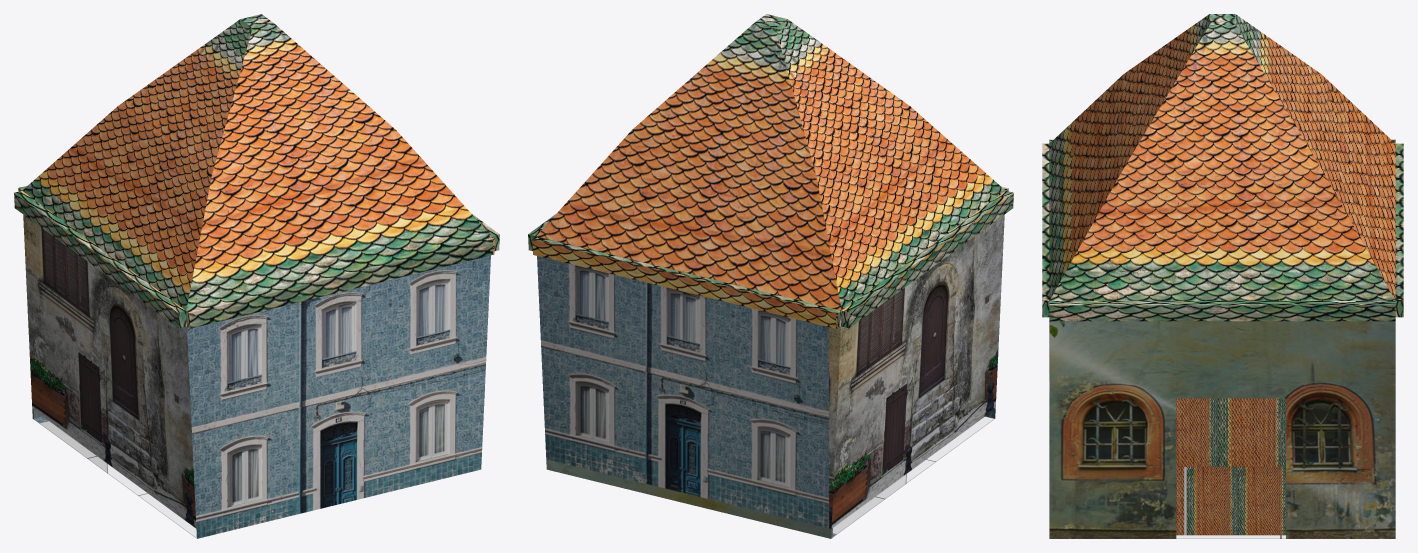
Rendered from finalhouse2.gltf.
3 renders of one model, left to right at view 1: azimuth 30°, elevation 25°; view 2: azimuth 150°, elevation 25°; view 3: azimuth 270°, elevation 25°, orthographic. The views are drawn at different scales.
Visible parts, largest first — view 1: Cube; view 2: Cube; view 3: Cube.
Part boxes in pixels (x1=…): Cube: x1=14, y1=14, x2=499, y2=538; Cube: x1=528, y1=14, x2=1013, y2=538; Cube: x1=1042, y1=14, x2=1403, y2=538.
Bounding box in the file's own units: 2.26 × 2.84 × 2.09.
Materials: 2 (2 with a texture image).
